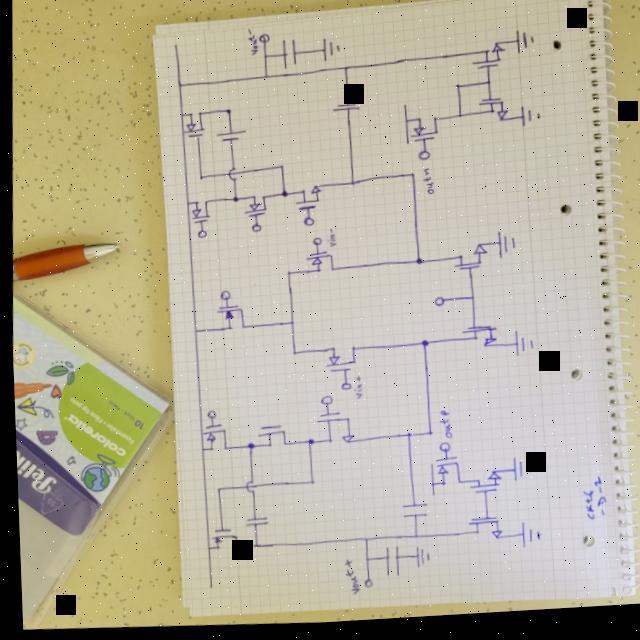capacitor: (376, 547, 396, 584), (279, 40, 297, 75), (393, 505, 424, 525), (213, 131, 243, 147), (328, 104, 358, 119), (238, 517, 264, 533)
crossover: (239, 481, 252, 498), (223, 169, 236, 185)
ground: (513, 526, 537, 557), (507, 335, 531, 364), (492, 235, 513, 266), (512, 34, 534, 62), (515, 110, 539, 135), (318, 39, 339, 67), (506, 462, 527, 490), (407, 549, 426, 574)
junction: (418, 342, 428, 354), (240, 444, 250, 455), (411, 261, 420, 271), (221, 109, 231, 118), (259, 55, 268, 65), (301, 441, 310, 450), (464, 299, 473, 308), (345, 183, 354, 192), (209, 488, 218, 496), (357, 559, 365, 568), (277, 193, 285, 201), (228, 198, 236, 206), (173, 84, 181, 92), (399, 436, 407, 444), (195, 447, 203, 455), (200, 546, 208, 554), (405, 537, 413, 545), (302, 482, 311, 489), (188, 329, 195, 338), (247, 545, 255, 552), (194, 177, 202, 184), (452, 88, 459, 96), (422, 434, 429, 442), (182, 202, 189, 210), (406, 176, 413, 184), (281, 273, 288, 280), (261, 77, 268, 84), (357, 540, 364, 547), (286, 353, 293, 360), (284, 323, 291, 330), (177, 114, 184, 121), (275, 167, 282, 173), (455, 118, 461, 125), (483, 85, 490, 91)
terminal: (398, 105, 411, 149), (424, 465, 432, 503), (314, 398, 330, 412), (213, 293, 229, 305), (415, 154, 428, 167), (257, 35, 268, 49), (300, 219, 312, 231), (429, 301, 442, 312), (192, 231, 205, 242), (335, 385, 347, 396), (246, 226, 258, 237), (307, 240, 318, 251), (201, 412, 212, 423), (357, 581, 366, 593), (433, 448, 445, 457), (168, 43, 179, 52), (201, 585, 208, 593)
text: (336, 562, 354, 600), (432, 414, 449, 444), (418, 173, 433, 201), (243, 32, 257, 60), (347, 378, 360, 405), (322, 233, 334, 251)
transistor: (456, 322, 500, 360), (308, 413, 352, 451), (446, 244, 486, 281), (459, 516, 499, 550), (318, 344, 354, 381), (404, 116, 440, 152), (461, 472, 498, 506), (473, 99, 507, 136), (251, 421, 285, 457), (203, 524, 237, 557), (212, 304, 245, 338), (469, 46, 505, 77), (289, 184, 320, 218), (198, 423, 227, 458), (428, 460, 456, 496), (299, 252, 333, 281), (239, 194, 268, 225), (180, 111, 205, 145), (185, 199, 210, 228)
